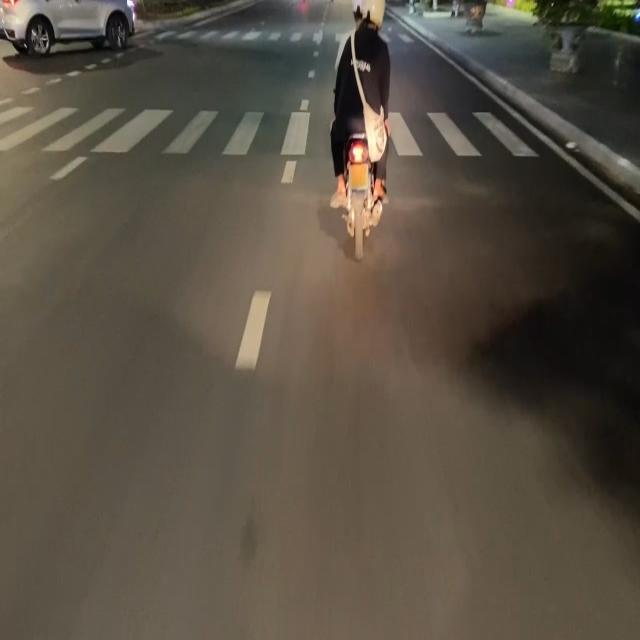walk-crossing: (0, 109, 536, 160)
